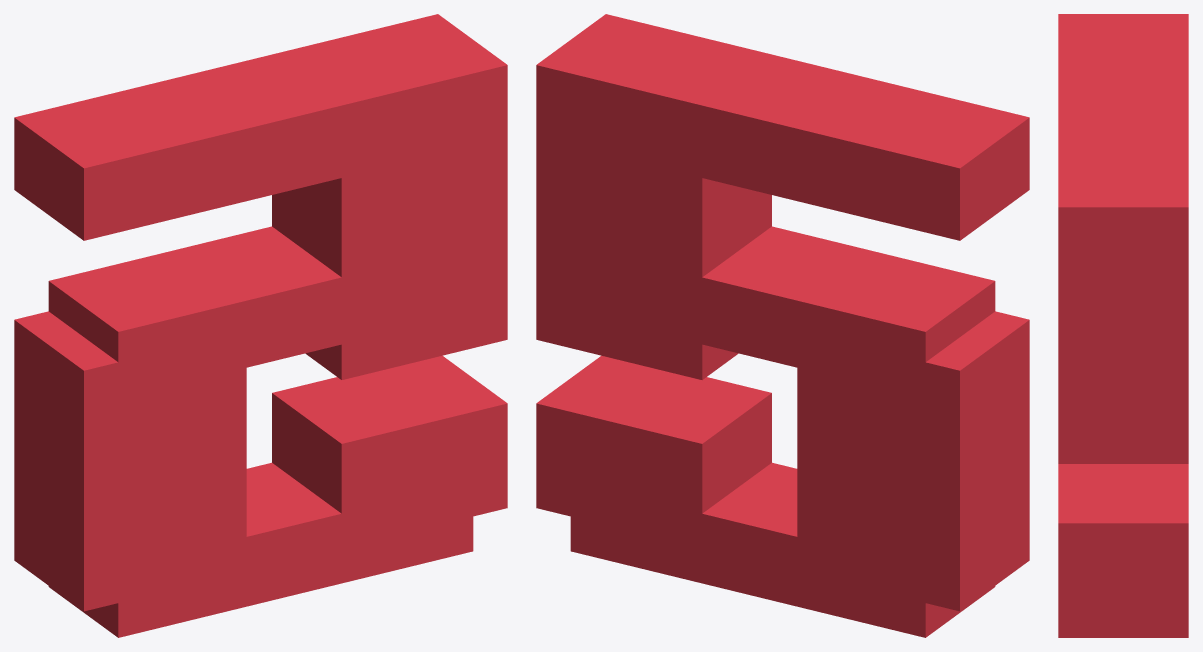
File: five.glb
The picture shows the model from 3 angles, left to right: view 1: azimuth 30°, elevation 25°; view 2: azimuth 150°, elevation 25°; view 3: azimuth 270°, elevation 25°; orthographic projection. The views are drawn at different scales.
Parts seen in each view (by area): view 1: five; view 2: five; view 3: five.
Boxes of the visible parts, <box> form: five: <box>14,14,507,637</box>; five: <box>536,14,1029,637</box>; five: <box>1058,14,1188,637</box>.
Size of the model in its own units: 1.75 by 1.89 by 0.5.
